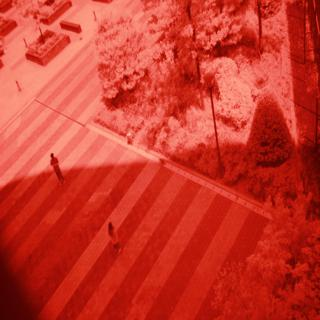person: (47, 149, 69, 191), (104, 216, 123, 256)
